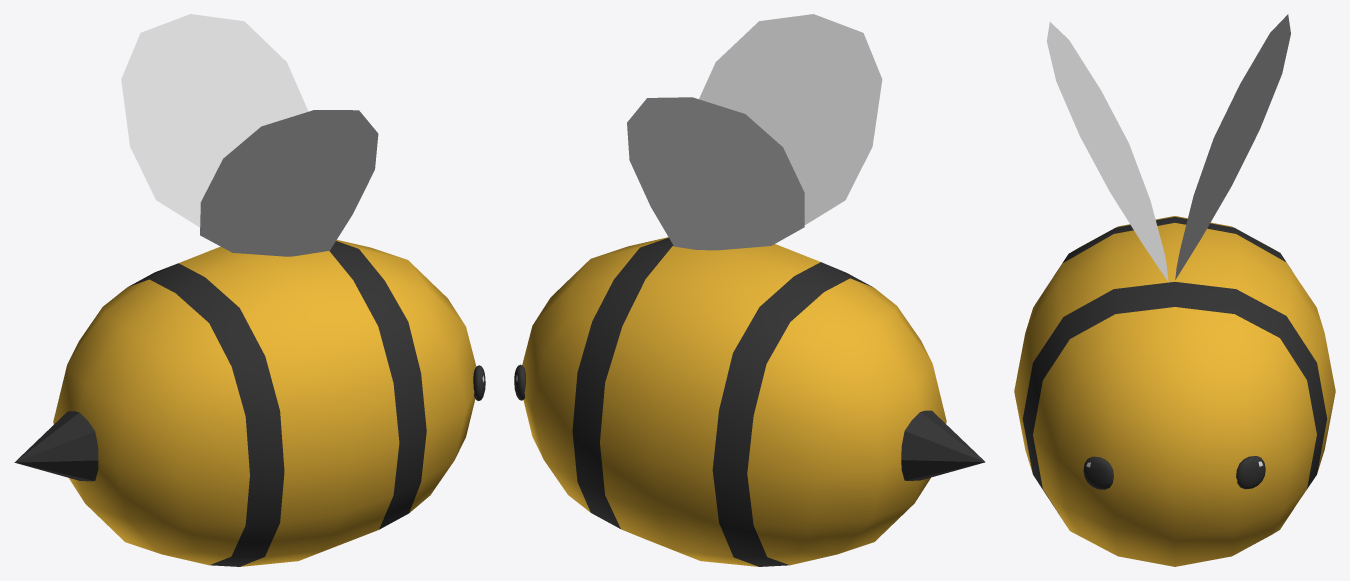
The model's file is BeeModel.glb.
The picture shows the model from 3 angles, left to right: view 1: azimuth 30°, elevation 25°; view 2: azimuth 150°, elevation 25°; view 3: azimuth 270°, elevation 25°; orthographic projection.
Visible parts, largest first — view 1: Bee; view 2: Bee; view 3: Bee.
Part boxes in pixels (left/top/right/bottom): Bee: left=14, top=14, right=485, bottom=566; Bee: left=514, top=14, right=985, bottom=566; Bee: left=1014, top=14, right=1335, bottom=566.
Bounding box in the file's own units: 0.8734 × 0.9255 × 0.5444.
